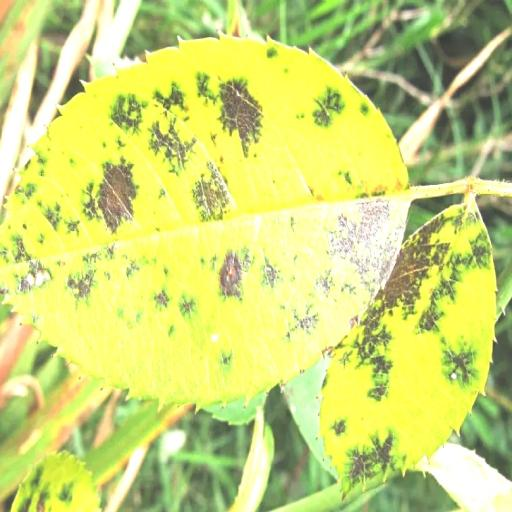downy_mildew: (0, 37, 408, 405), (321, 197, 495, 492), (416, 444, 511, 511), (11, 453, 99, 511)
